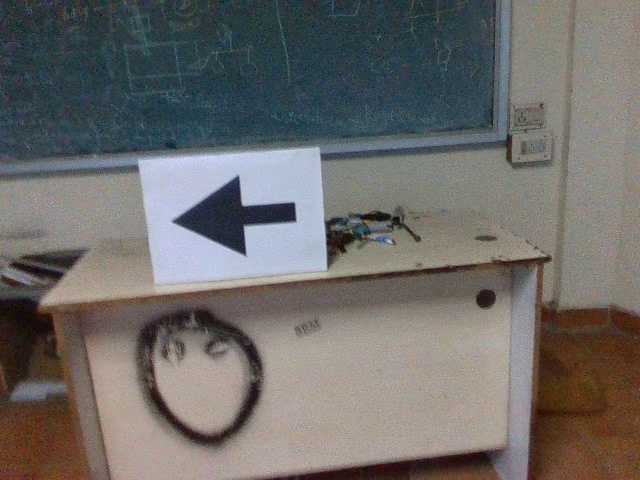Left: (164, 171, 301, 262)
